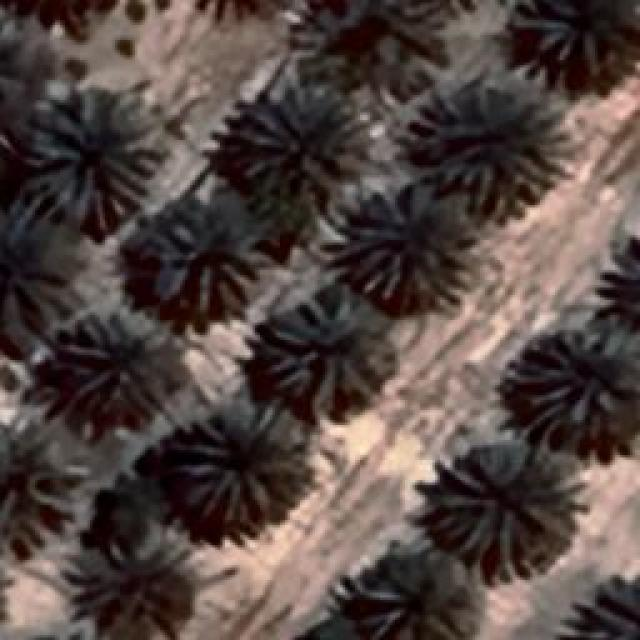PalmTree: (407, 80, 575, 215), (17, 85, 165, 233), (228, 82, 380, 202), (255, 287, 390, 415), (182, 400, 310, 525), (440, 442, 562, 568), (60, 305, 178, 420), (154, 200, 268, 318), (507, 328, 635, 430), (86, 520, 194, 640), (0, 414, 88, 558), (0, 201, 80, 359), (360, 542, 485, 638), (511, 0, 639, 90), (349, 200, 459, 300), (303, 0, 428, 82), (559, 575, 640, 640), (585, 238, 640, 331)
